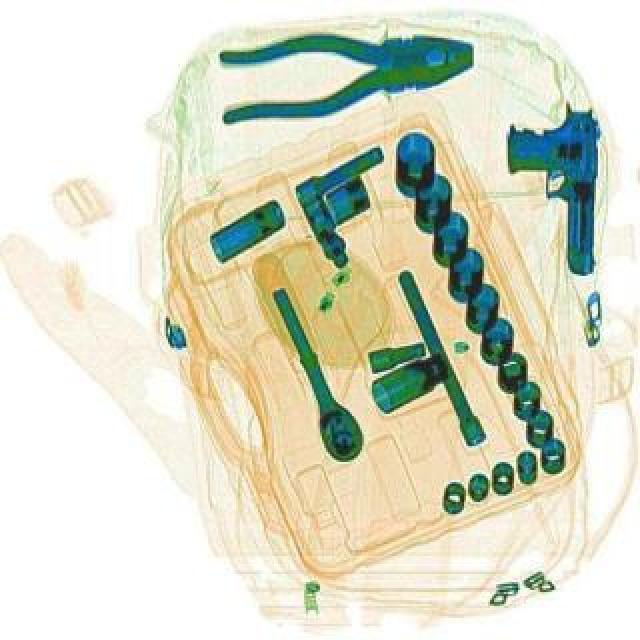gun: (502, 102, 598, 274)
wrench: (210, 12, 480, 128)
